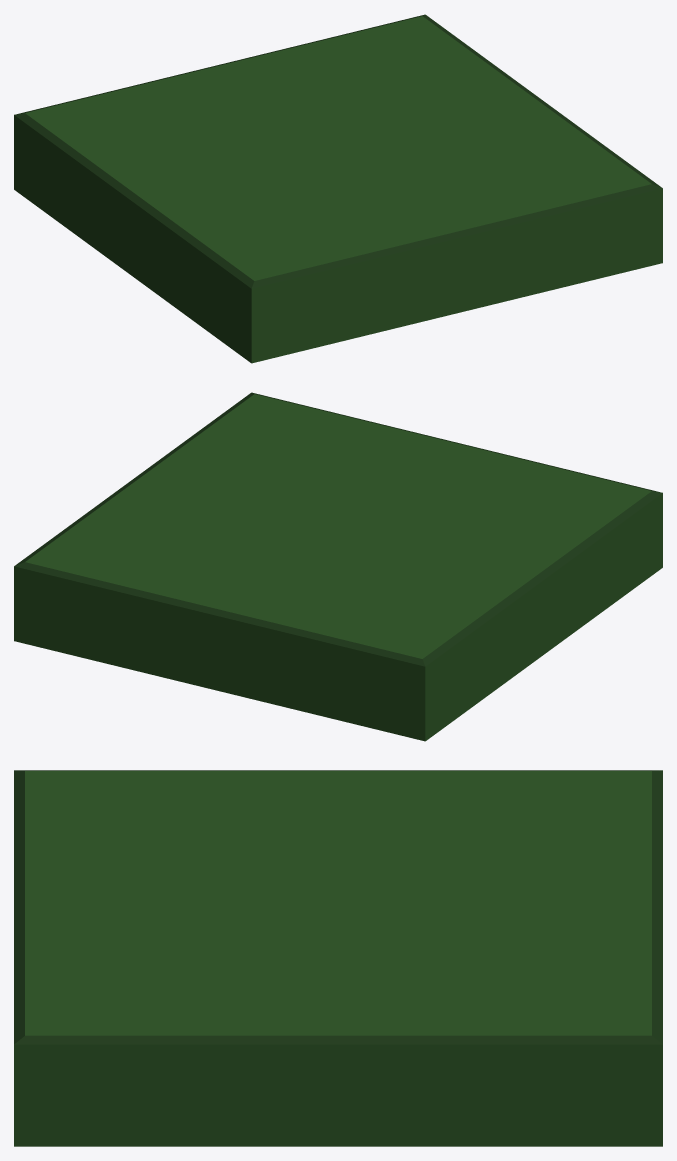
File: GrassTile.fbx
3 renders of one model, top to bottom at view 1: azimuth 30°, elevation 25°; view 2: azimuth 150°, elevation 25°; view 3: azimuth 270°, elevation 25°, orthographic. The views are drawn at different scales.
Visible parts, largest first — view 1: Terrain; view 2: Terrain; view 3: Terrain.
Part boxes in pixels (<box>): Terrain: <box>14,14,662,363</box>; Terrain: <box>14,392,662,741</box>; Terrain: <box>14,770,662,1146</box>.
Size of the model in its own units: 200 by 36.12 by 200.
